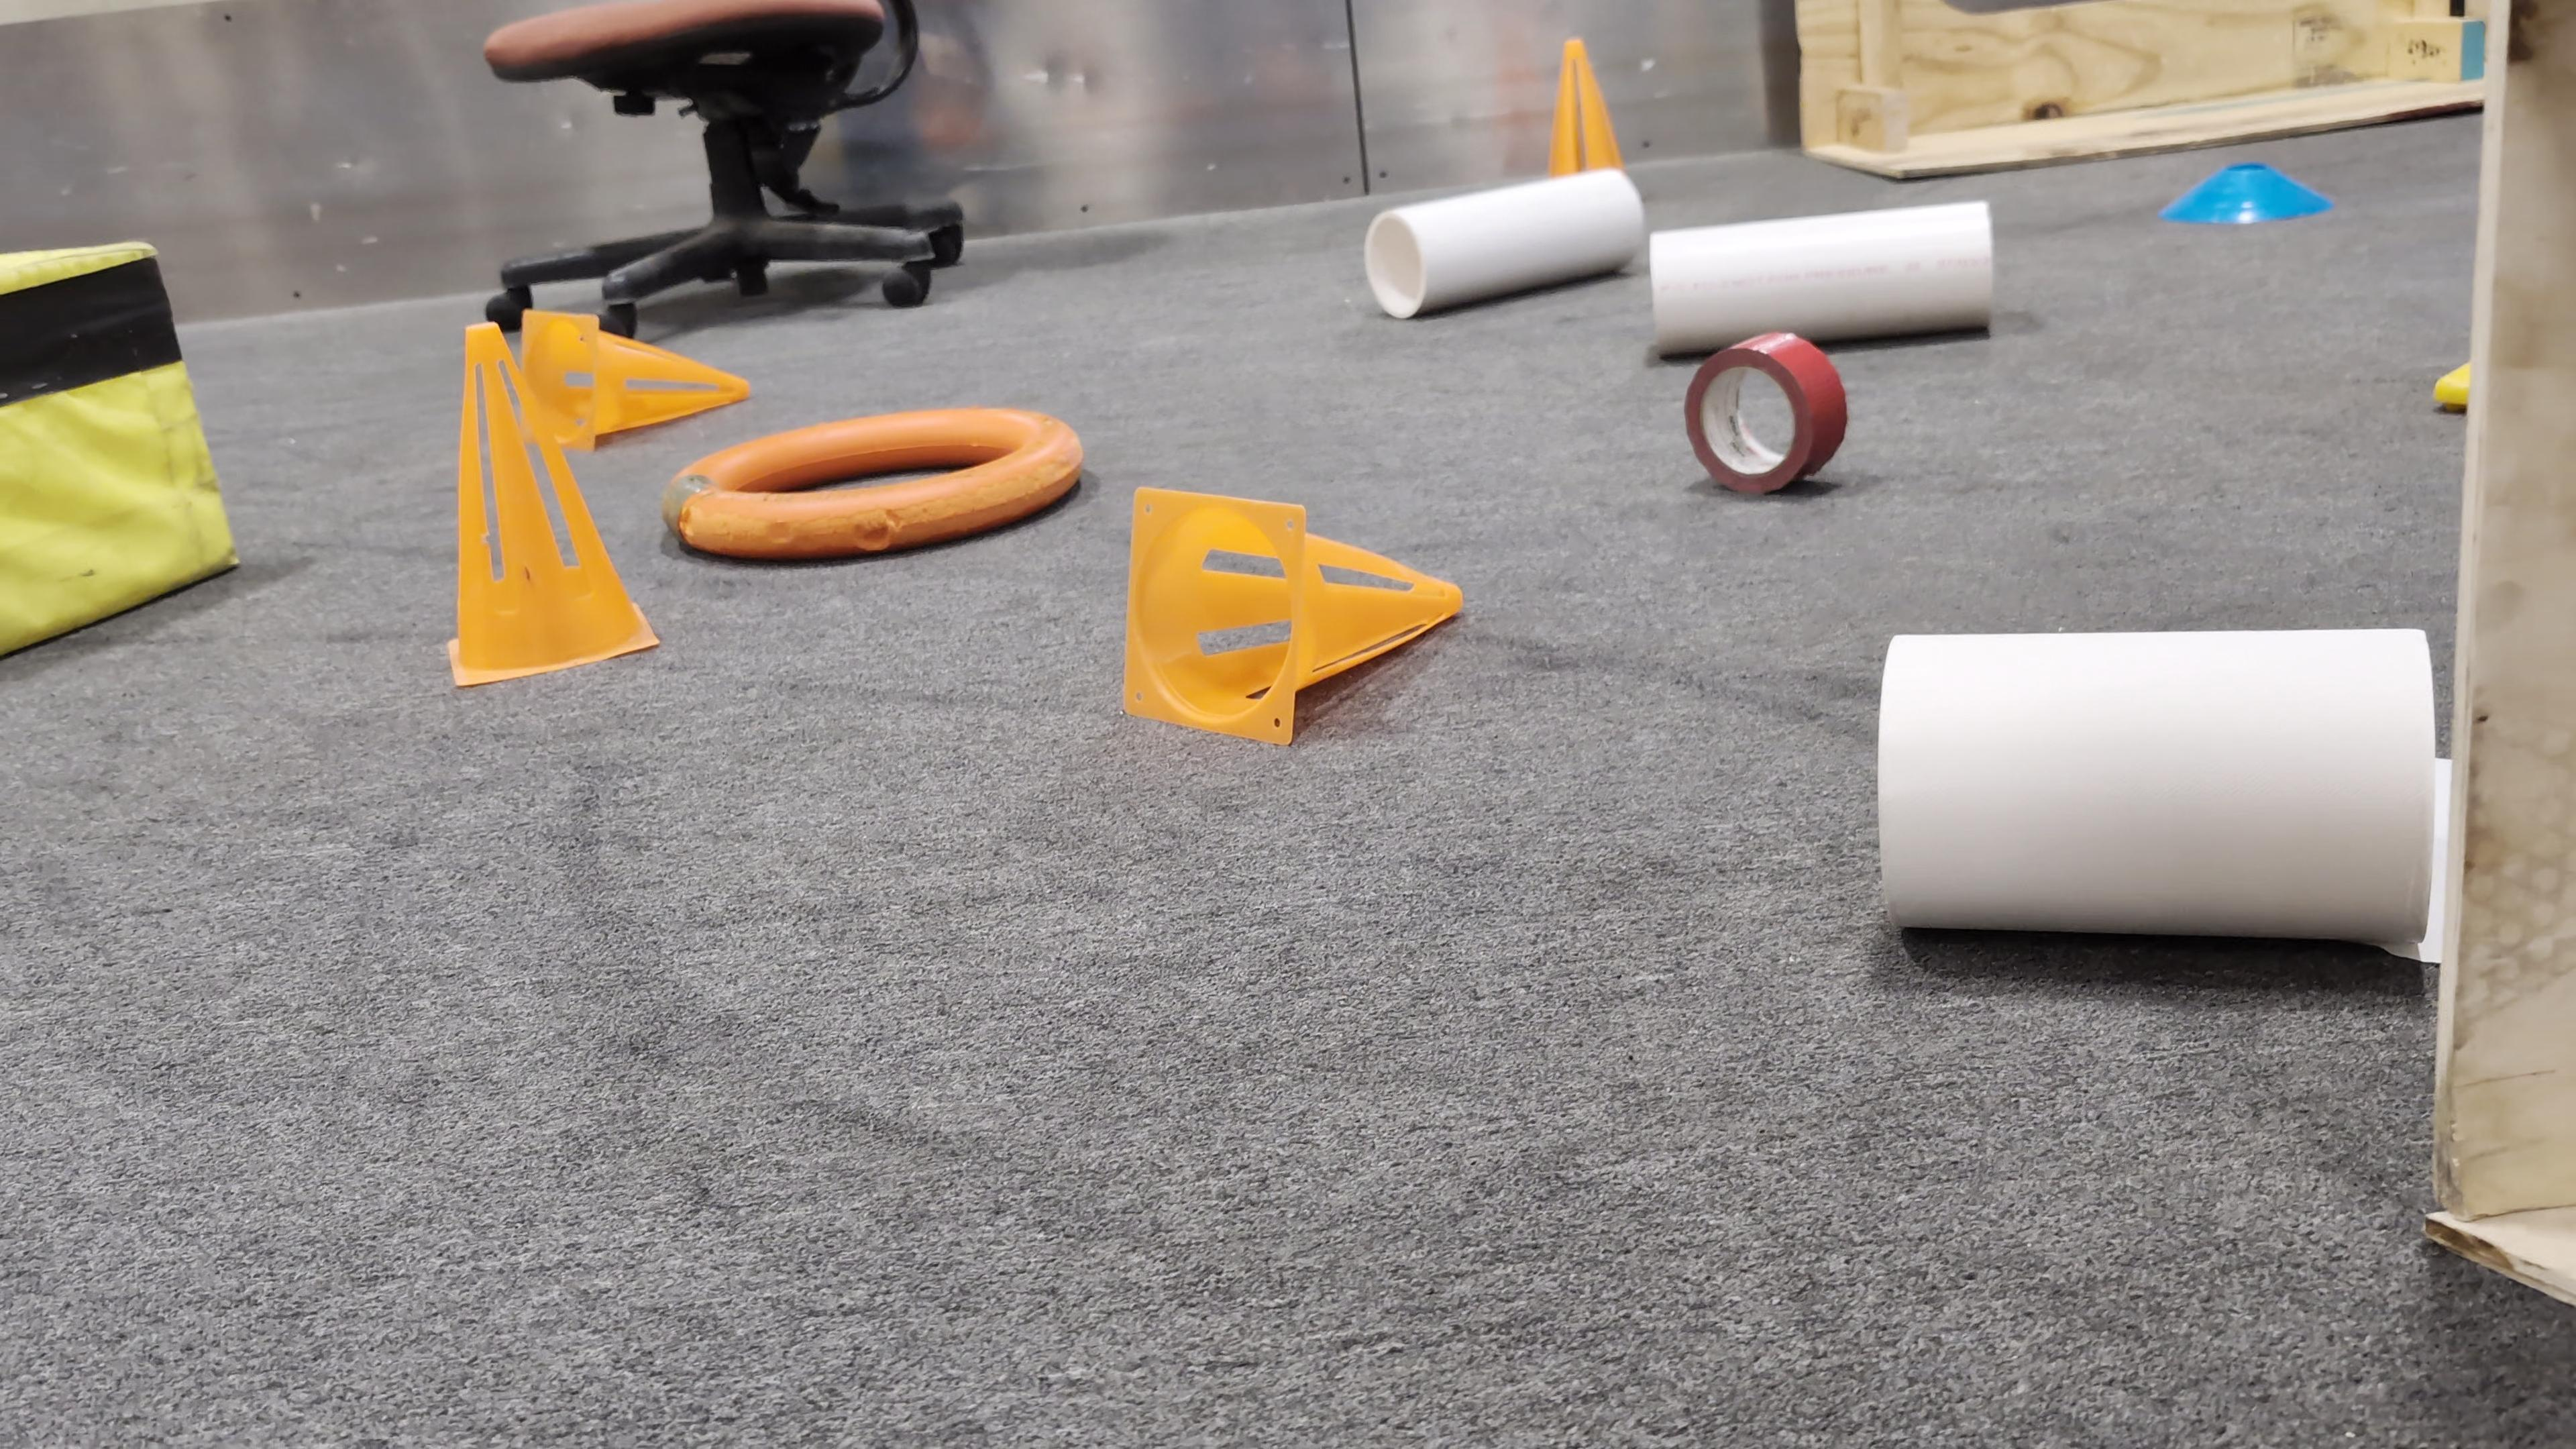coral: (1642, 198, 1996, 354), (1361, 161, 1647, 318)
